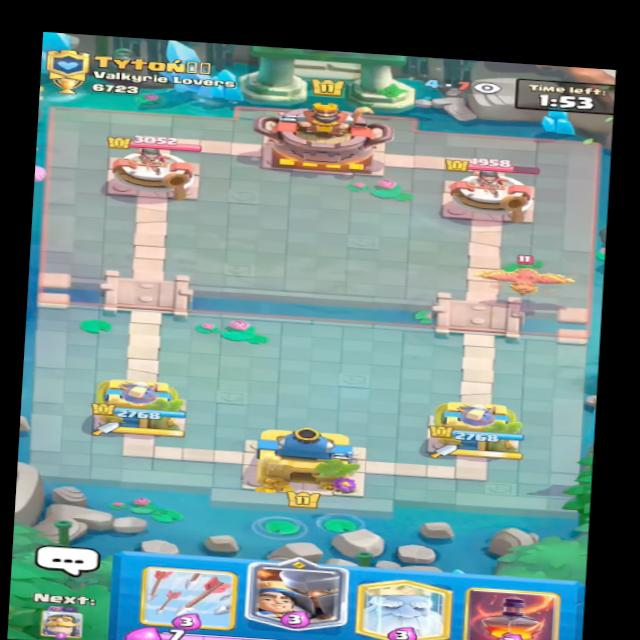Pheonix: (473, 249, 586, 304)
